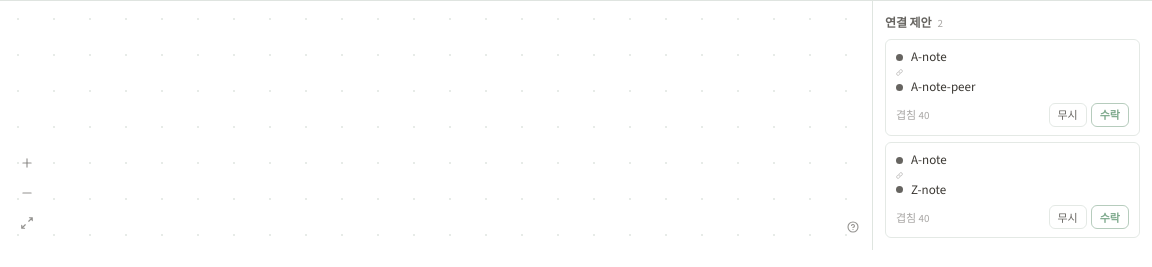
Test: GraphTab user boundaries › a suggestions read that starts while accept is still in flight skips that card
The image size is (1152, 267).
Click the button "수락" below "A-note-peer".
click(1110, 115)  # box [1091,103,1129,127]
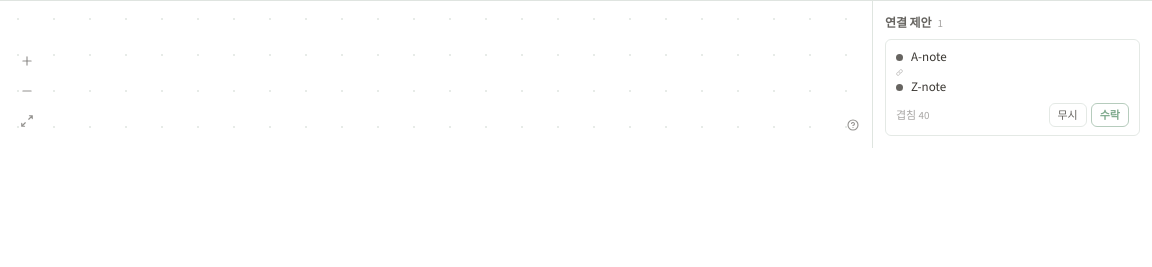
Click the button "수락".
click(1110, 115)  # box [1091,103,1129,127]
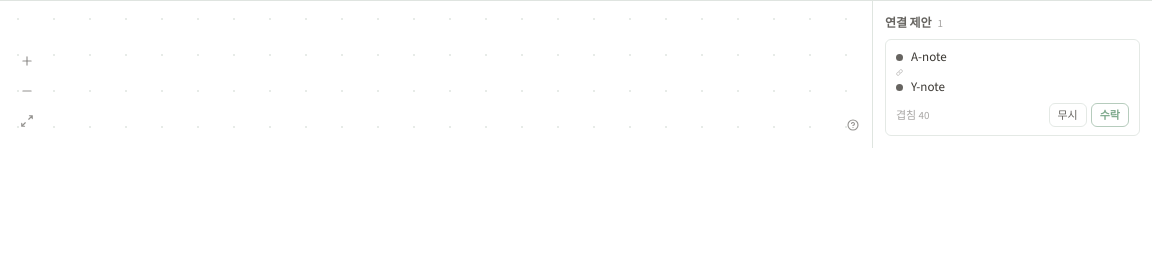
Expected: the list item with test id "graph-suggestion-s2" is gone
Expected: the list item with test id "graph-suggestion-s3" is shown, [885,39,1140,136]
